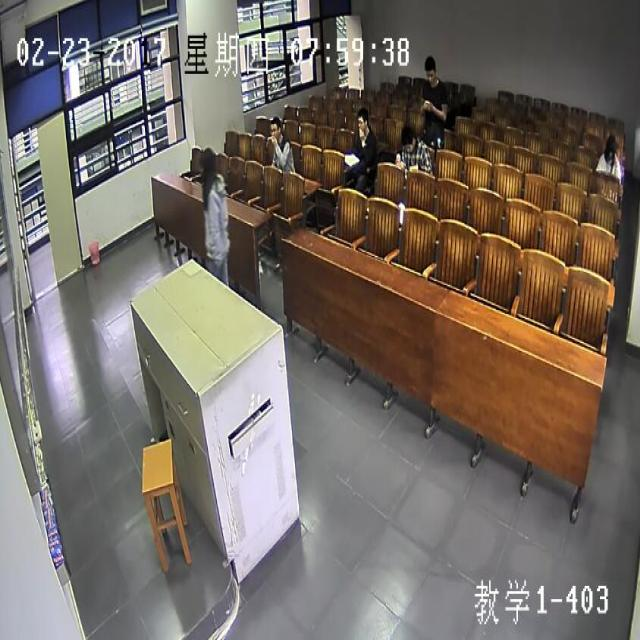person: (200, 145, 217, 176), (400, 123, 416, 153), (424, 54, 437, 82), (358, 106, 368, 133), (271, 116, 281, 140), (606, 135, 617, 153), (604, 144, 614, 162)
